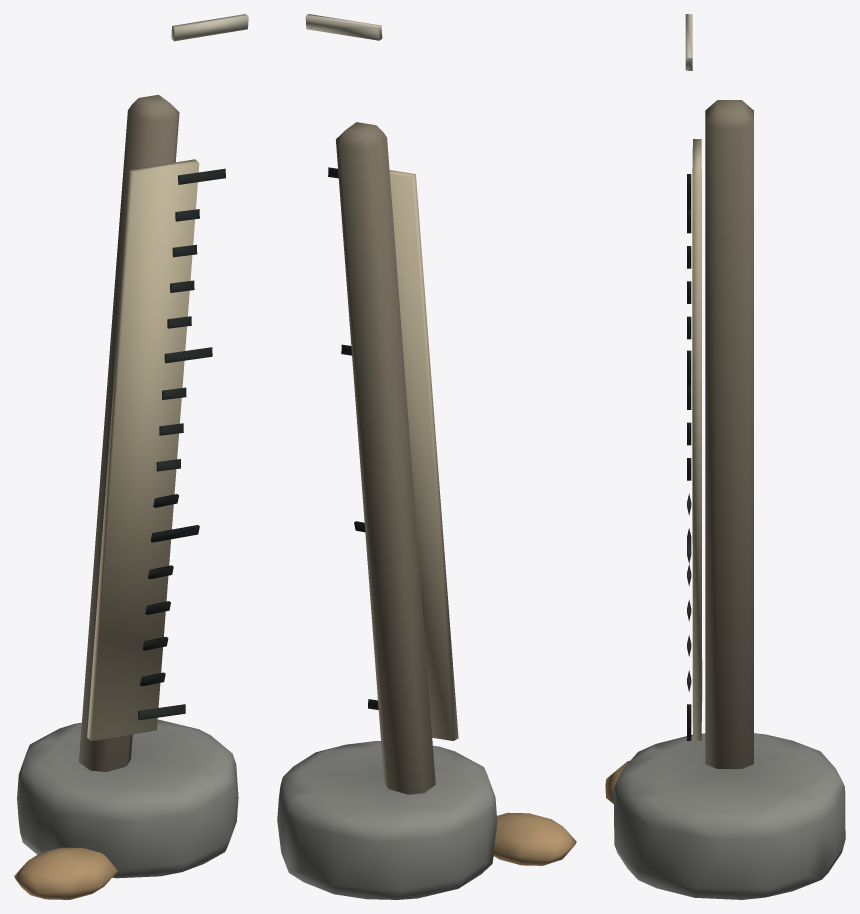
File: staff_gauge_a_lod1.glb
The picture shows the model from 3 angles, left to right: view 1: azimuth 30°, elevation 25°; view 2: azimuth 150°, elevation 25°; view 3: azimuth 270°, elevation 25°; orthographic projection. The views are drawn at different scales.
Parts seen in each view (by area): view 1: Surface.001; view 2: Surface.001; view 3: Surface.001.
Part boxes in pixels (box(x1,y1,x2,y2)): Surface.001: box(14, 14, 248, 899); Surface.001: box(277, 14, 576, 899); Surface.001: box(605, 14, 845, 899).
Size of the model in its own units: 0.7339 by 2.35 by 0.593.
